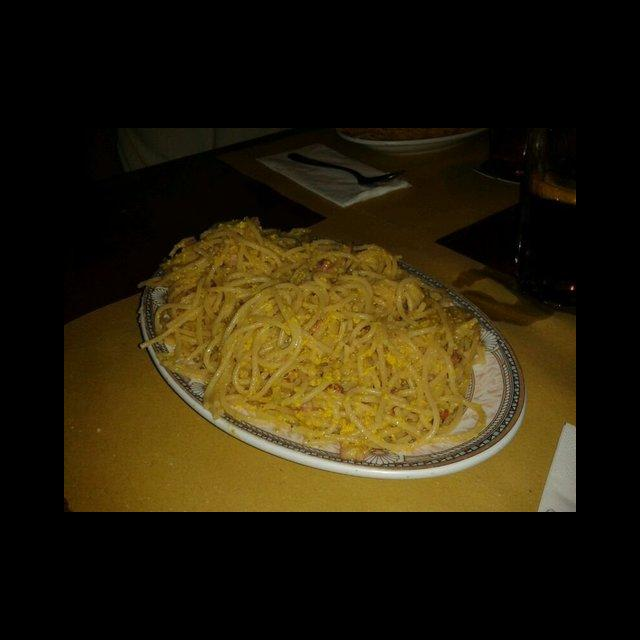noodles: (134, 220, 496, 459)
